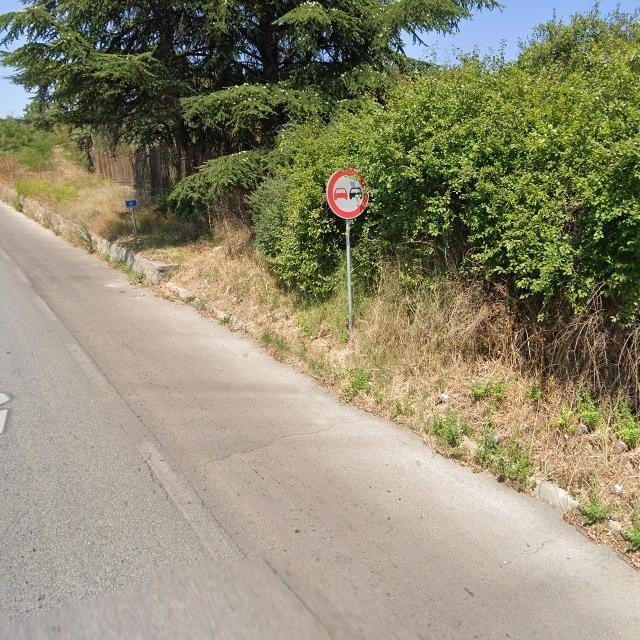forb_overtake: (325, 167, 368, 219)
